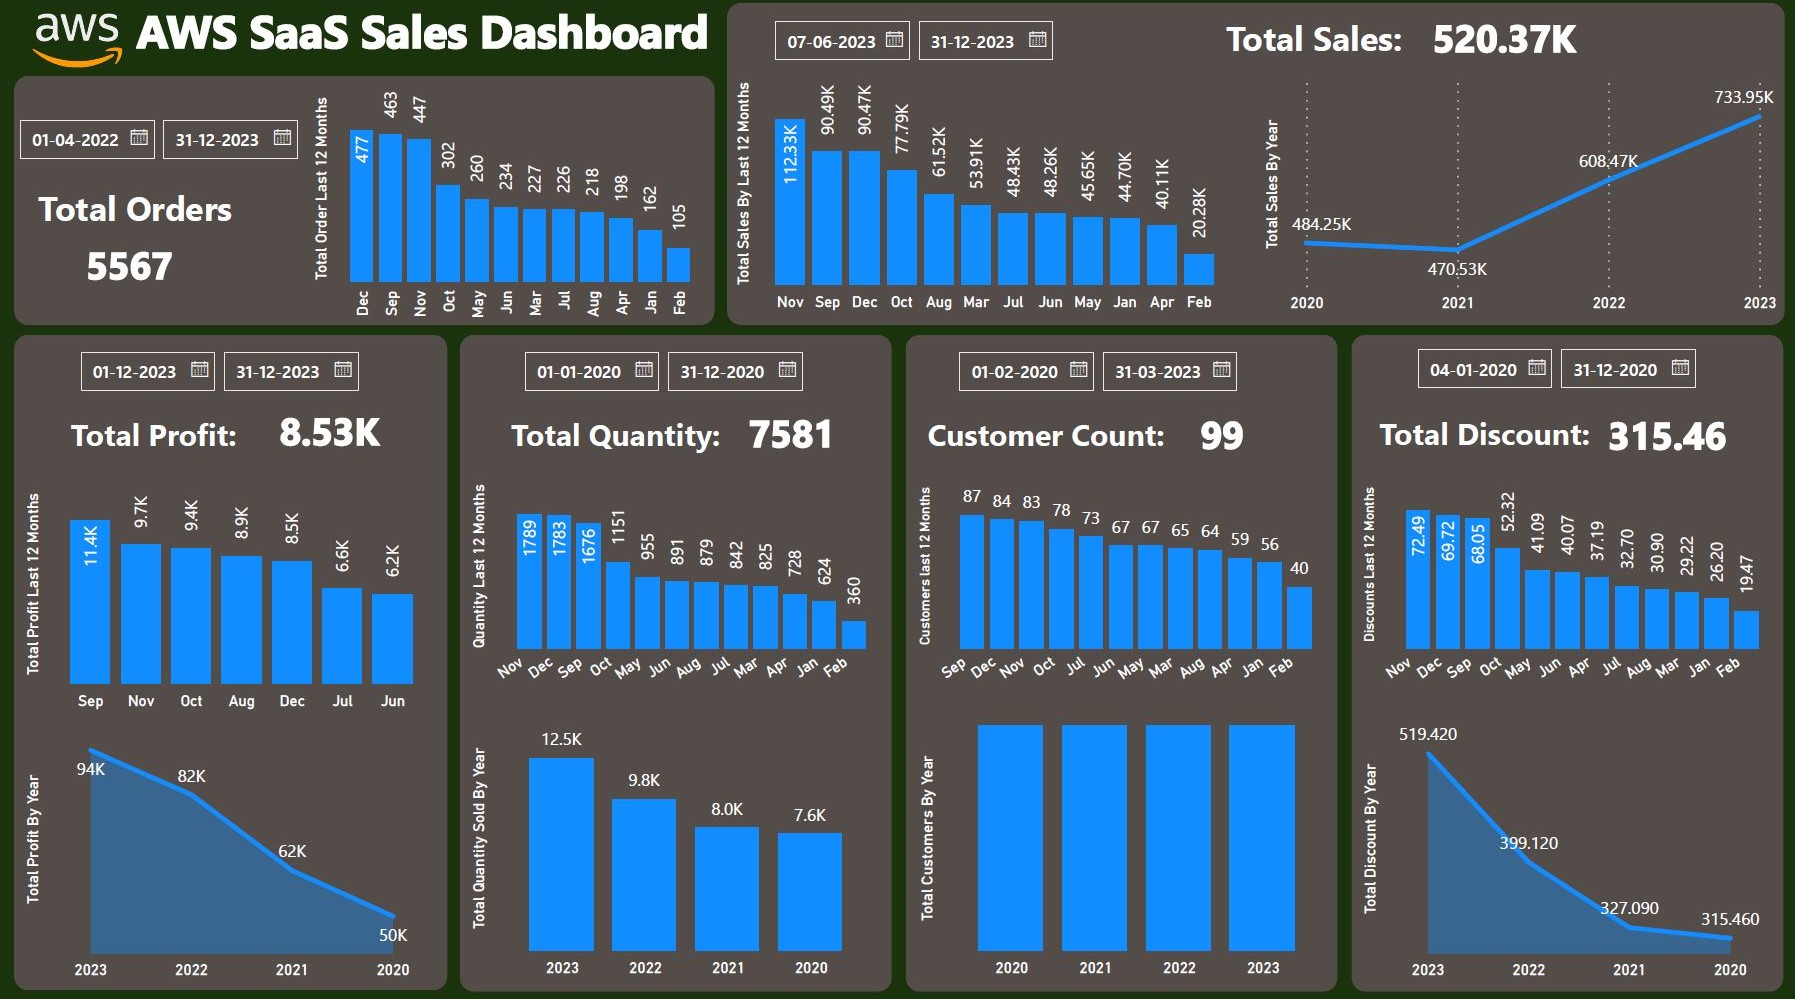

Layout of this report page (visuals, bound fields, positions):
{"tool":"powerbi","page":{"name":"Page 1","canvas":[1280,720],"ordinal":0},"visuals":[{"type":"image","box":[0,7.1,109.5,52.4],"z":0},{"type":"textbox","box":[92.8,0,426,53.6],"z":1000},{"type":"textbox","box":[964,44,123.8,47.6],"z":2000},{"type":"shape","box":[517.7,8.3,752.1,228.5],"z":3000},{"type":"card","fields":{"Values":["AWS_SaaS_Data.Total Sales"]},"box":[990.1,13.1,160.7,40.5],"z":4000},{"type":"textbox","box":[846.7,11,156.4,42.5],"z":5000},{"type":"slicer","fields":{"Values":["DateTable.Date"]},"box":[539.3,11,240.1,42.5],"z":6000},{"type":"clusteredColumnChart","fields":{"Y":["AWS_SaaS_Data.Total Sales"],"Category":["DateTable.Month"]},"box":[518.7,50.8,360.9,183.9],"z":7000},{"type":"lineChart","fields":{"Category":["DateTable.Year"],"Y":["AWS_SaaS_Data.Total Sales"]},"box":[894.7,50.8,374.6,185.2],"z":8000},{"type":"shape","box":[10.7,59.5,498.6,177.3],"z":9000},{"type":"shape","box":[328,244.3,307.4,466.6],"z":10000},{"type":"shape","box":[644.9,244.3,307.4,466.6],"z":11000},{"type":"shape","box":[10.7,244,308.2,466.5],"z":12000},{"type":"shape","box":[961.9,244.3,307.4,466.6],"z":13000},{"type":"card","fields":{"Values":["AWS_SaaS_Data.Total Orders"]},"box":[34.5,170.2,116.6,50],"z":14000},{"type":"textbox","box":[22.6,132.1,163,47.6],"z":15000},{"type":"slicer","fields":{"Values":["DateTable.Date"]},"box":[2.4,80.9,219,51.2],"z":16000},{"type":"clusteredColumnChart","fields":{"Category":["DateTable.Month"],"Y":["AWS_SaaS_Data.Total Orders"]},"box":[219,59.5,285.6,185.7],"z":17000},{"type":"card","fields":{"Values":["AWS_SaaS_Data.Total Profit"]},"box":[164.2,292.8,141.6,40.5],"z":18000},{"type":"textbox","box":[27.4,295.1,146.4,40.5],"z":19000},{"type":"slicer","fields":{"Values":["DateTable.Date"]},"box":[45.3,245.6,238.8,49.4],"z":20000},{"type":"clusteredColumnChart","fields":{"Y":["AWS_SaaS_Data.Total Profit"],"Category":["DateTable.Month"]},"box":[14.3,335.6,299.9,183.3],"z":21000},{"type":"areaChart","fields":{"Category":["DateTable.Year"],"Y":["AWS_SaaS_Data.Total Profit"]},"box":[14.3,508.2,299.9,202.3],"z":22000},{"type":"card","fields":{"Values":["AWS_SaaS_Data.Total Quantity Sold"]},"box":[492.6,293.7,142.7,41.2],"z":23000},{"type":"textbox","box":[328.5,295.1,189.2,40.5],"z":24000},{"type":"slicer","fields":{"Values":["DateTable.Date"]},"box":[360.9,245.6,237.4,49.4],"z":25000},{"type":"clusteredColumnChart","fields":{"Category":["DateTable.Month"],"Y":["AWS_SaaS_Data.Total Quantity Sold"]},"box":[330.8,335.6,298.7,172.6],"z":26000},{"type":"lineClusteredColumnComboChart","fields":{"Category":["DateTable.Year"],"Y":["AWS_SaaS_Data.Total Quantity Sold"]},"box":[330.7,507.7,299.1,201.7],"z":27000},{"type":"slicer","fields":{"Values":["DateTable.Date"]},"box":[669.6,245.6,237.4,49.4],"z":28000},{"type":"card","fields":{"Values":["AWS_SaaS_Data.Customer Count"]},"box":[798.6,295,142.7,41.2],"z":29000},{"type":"textbox","box":[644.9,295,189.4,41.2],"z":30000},{"type":"lineClusteredColumnComboChart","fields":{"Y":["AWS_SaaS_Data.Customer Count"],"Category":["DateTable.Month"]},"box":[648.6,335.6,298.7,172.6],"z":31000},{"type":"hundredPercentStackedColumnChart","fields":{"Category":["DateTable.Year"],"Y":["AWS_SaaS_Data.Customer Count"]},"box":[649.8,508.2,302.3,201.1],"z":32000},{"type":"slicer","fields":{"Values":["DateTable.Date"]},"box":[996.1,244,238,48.8],"z":33000},{"type":"card","fields":{"Values":["AWS_SaaS_Data.Discount_Amount"]},"box":[1115.1,295.1,142.8,41.7],"z":34000},{"type":"textbox","box":[961.6,294,189.2,41.7],"z":35000},{"type":"clusteredColumnChart","fields":{"Category":["DateTable.Month"],"Y":["AWS_SaaS_Data.Total Discount"]},"box":[965.2,333.2,299.9,174.9],"z":36000},{"type":"areaChart","fields":{"Category":["DateTable.Year"],"Y":["AWS_SaaS_Data.Total Discount"]},"box":[965.2,508.2,299.9,202.3],"z":37000}]}

Visuals, with their boxes in screenshot pixels (x1, y1, x2, y2), scaled from the page's 1280x720 canvas onto the 1795x999 screenshot:
image: region(0, 10, 154, 83)
textbox: region(130, 0, 728, 74)
textbox: region(1352, 61, 1525, 127)
shape: region(726, 12, 1781, 329)
card - AWS_SaaS_Data.Total Sales: region(1388, 18, 1614, 74)
textbox: region(1187, 15, 1407, 74)
slicer - DateTable.Date: region(756, 15, 1093, 74)
clusteredColumnChart - AWS_SaaS_Data.Total Sales x DateTable.Month: region(727, 70, 1234, 326)
lineChart - DateTable.Year x AWS_SaaS_Data.Total Sales: region(1255, 70, 1780, 327)
shape: region(15, 83, 714, 329)
shape: region(460, 339, 891, 986)
shape: region(904, 339, 1335, 986)
shape: region(15, 339, 447, 986)
shape: region(1349, 339, 1780, 986)
card - AWS_SaaS_Data.Total Orders: region(48, 236, 212, 306)
textbox: region(32, 183, 260, 249)
slicer - DateTable.Date: region(3, 112, 310, 183)
clusteredColumnChart - DateTable.Month x AWS_SaaS_Data.Total Orders: region(307, 83, 708, 340)
card - AWS_SaaS_Data.Total Profit: region(230, 406, 429, 462)
textbox: region(38, 409, 244, 466)
slicer - DateTable.Date: region(64, 341, 398, 409)
clusteredColumnChart - AWS_SaaS_Data.Total Profit x DateTable.Month: region(20, 466, 441, 720)
areaChart - DateTable.Year x AWS_SaaS_Data.Total Profit: region(20, 705, 441, 986)
card - AWS_SaaS_Data.Total Quantity Sold: region(691, 408, 891, 465)
textbox: region(461, 409, 726, 466)
slicer - DateTable.Date: region(506, 341, 839, 409)
clusteredColumnChart - DateTable.Month x AWS_SaaS_Data.Total Quantity Sold: region(464, 466, 883, 705)
lineClusteredColumnComboChart - DateTable.Year x AWS_SaaS_Data.Total Quantity Sold: region(464, 704, 883, 984)
slicer - DateTable.Date: region(939, 341, 1272, 409)
card - AWS_SaaS_Data.Customer Count: region(1120, 409, 1320, 466)
textbox: region(904, 409, 1170, 466)
lineClusteredColumnComboChart - AWS_SaaS_Data.Customer Count x DateTable.Month: region(910, 466, 1328, 705)
hundredPercentStackedColumnChart - DateTable.Year x AWS_SaaS_Data.Customer Count: region(911, 705, 1335, 984)
slicer - DateTable.Date: region(1397, 339, 1731, 406)
card - AWS_SaaS_Data.Discount_Amount: region(1564, 409, 1764, 467)
textbox: region(1348, 408, 1614, 466)
clusteredColumnChart - DateTable.Month x AWS_SaaS_Data.Total Discount: region(1354, 462, 1774, 705)
areaChart - DateTable.Year x AWS_SaaS_Data.Total Discount: region(1354, 705, 1774, 986)
